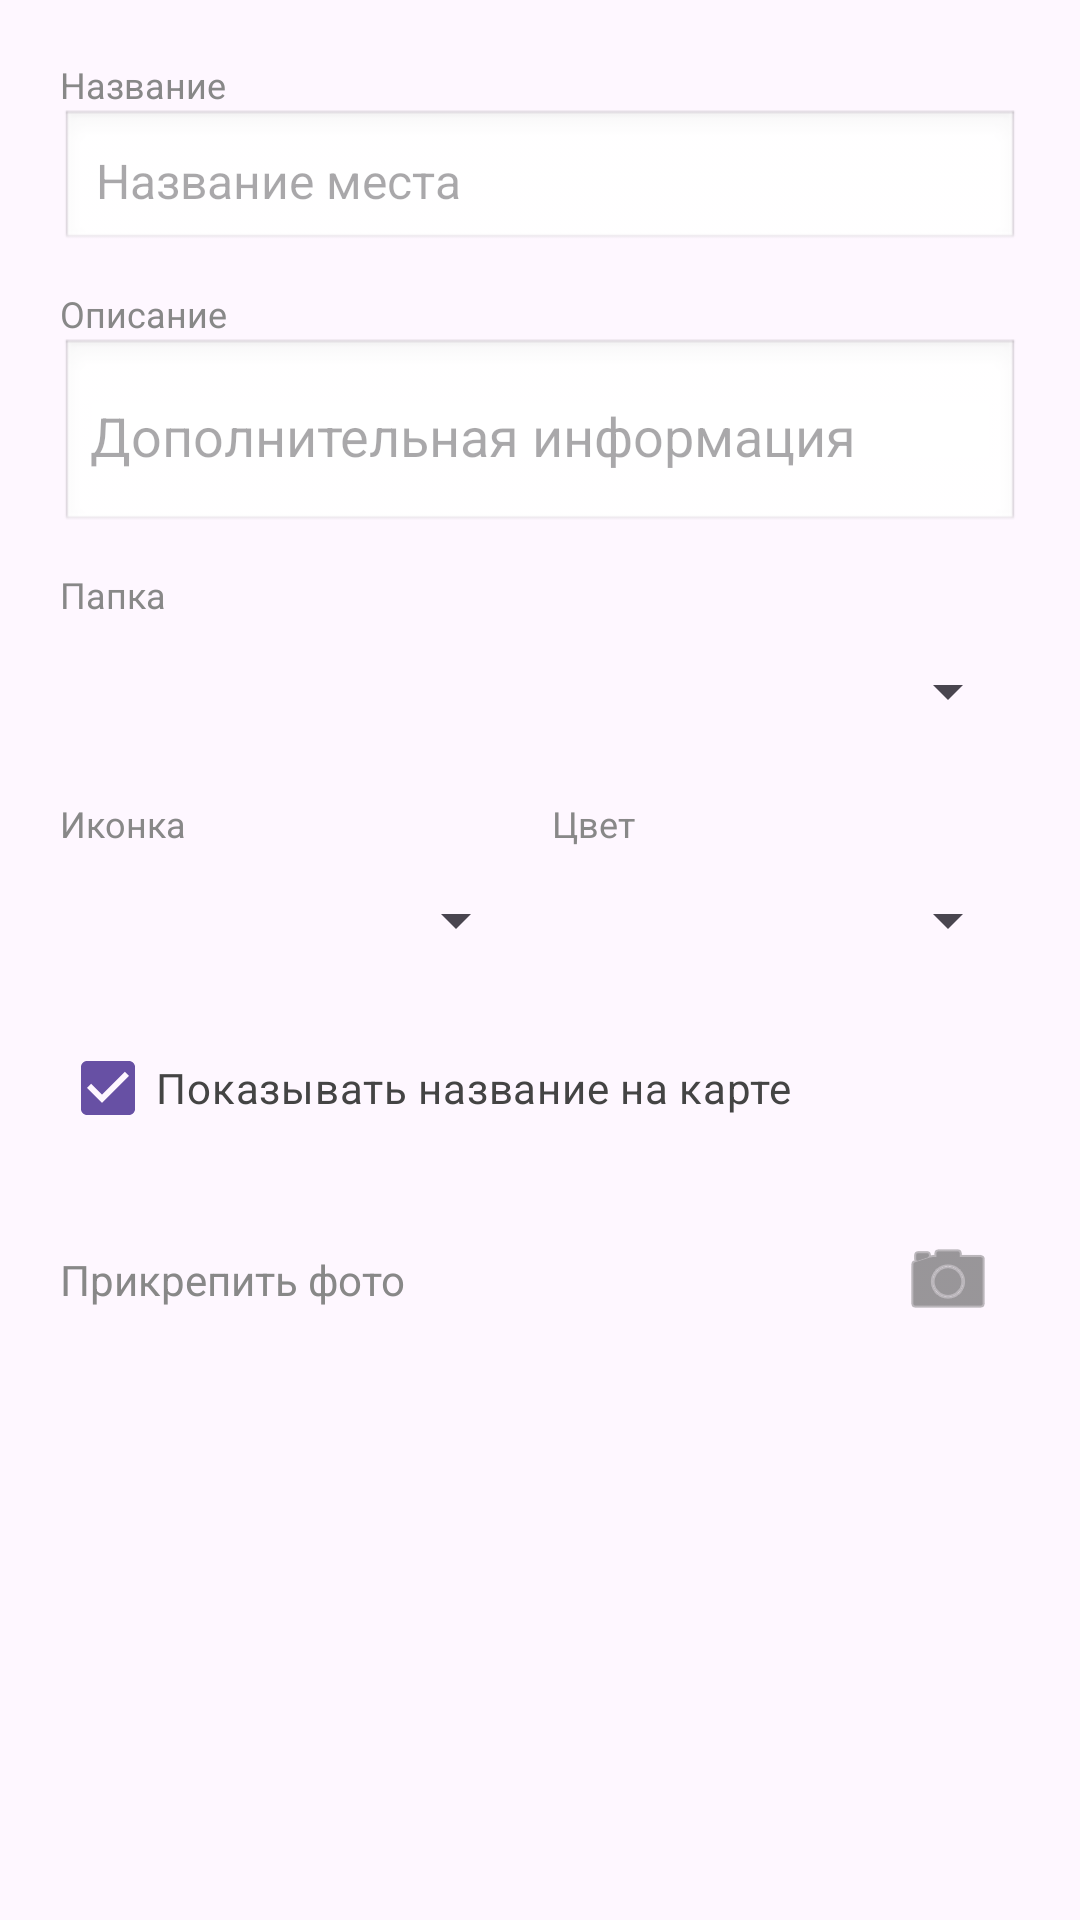

Where to tap for icons on this 1080×1920 app screen, as point (x, y):
camera: point (948, 1278)
